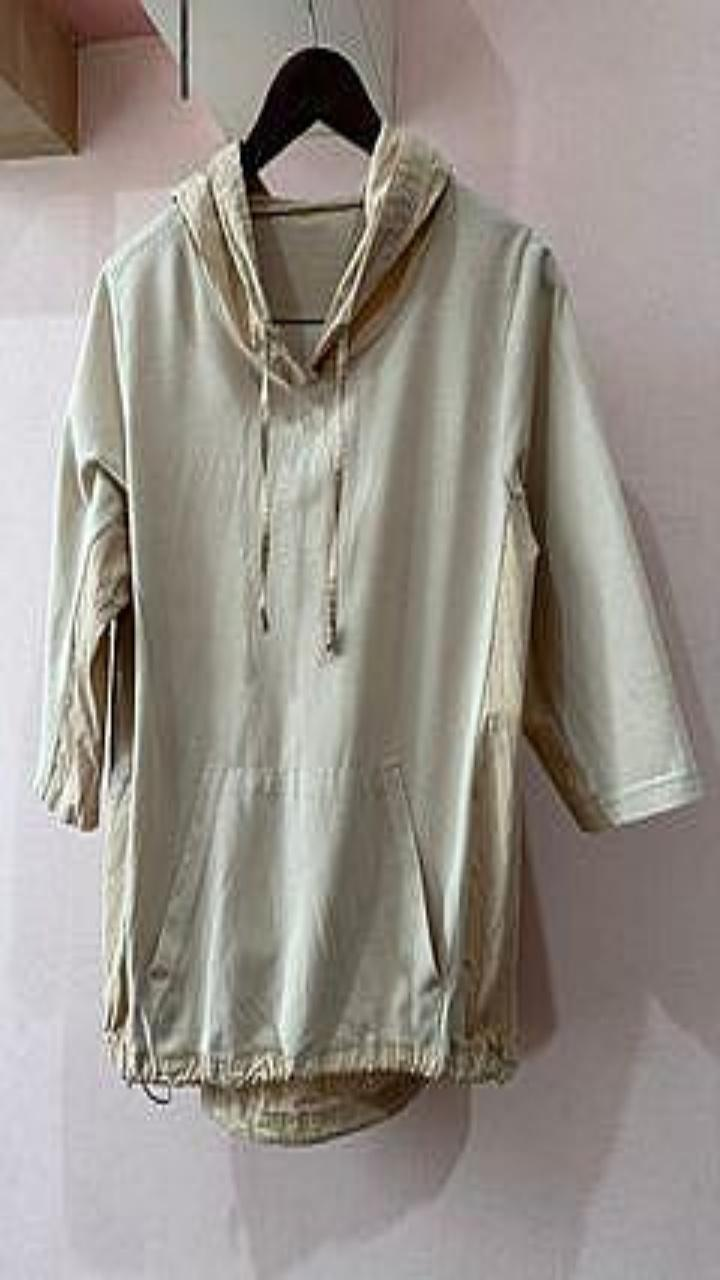Hoodie: (33, 121, 701, 1142)
